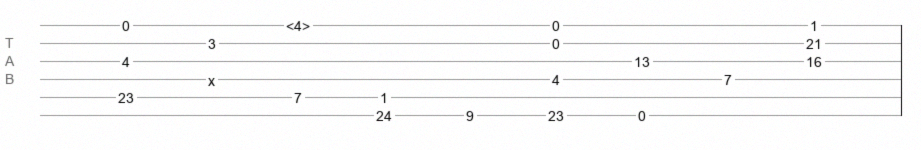0: (122, 18, 130, 28), (552, 36, 560, 46), (552, 18, 560, 28), (638, 108, 646, 118)
1: (380, 90, 388, 100), (810, 18, 818, 28)
13: (634, 54, 650, 64)
16: (806, 54, 822, 64)
21: (806, 36, 822, 46)
23: (118, 90, 134, 100), (548, 108, 564, 118)
24: (376, 108, 392, 118)
3: (208, 36, 216, 46)
4: (122, 54, 130, 64), (552, 72, 560, 82)
7: (294, 90, 302, 100), (724, 72, 732, 82)
9: (466, 108, 474, 118)
harmonic: (286, 18, 310, 28)
x: (208, 73, 215, 81)
